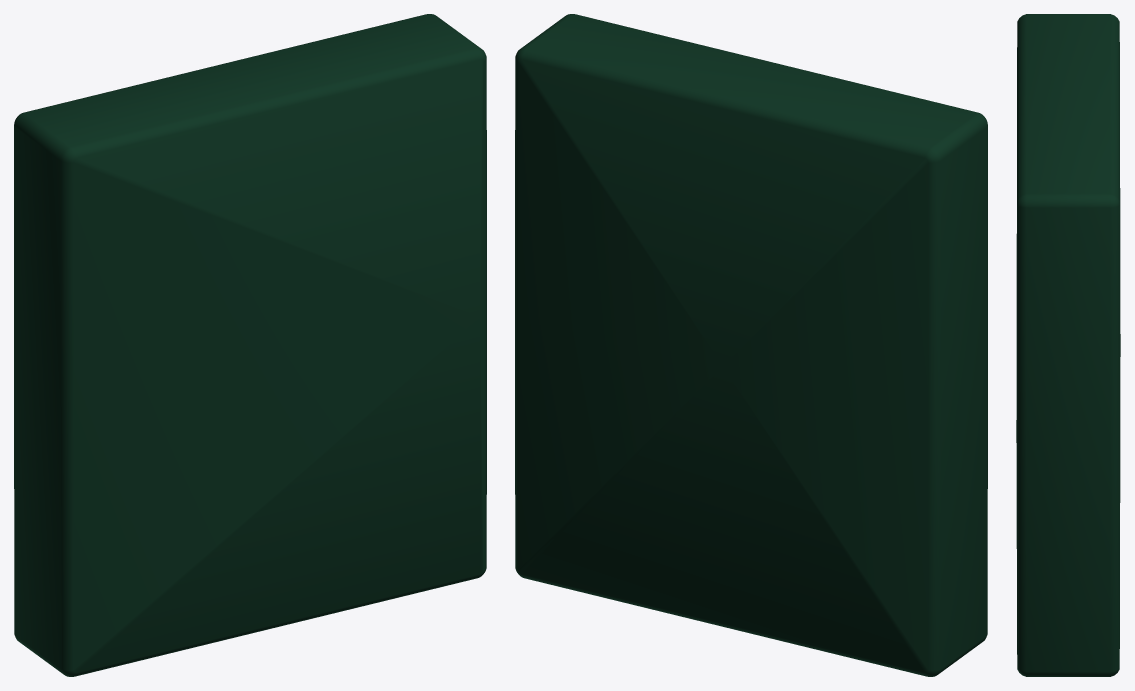
File: base_link_pcb.obj
3 views of the same model, side by side, from view 1: azimuth 30°, elevation 25°; view 2: azimuth 150°, elevation 25°; view 3: azimuth 270°, elevation 25° (orthographic). The views are drawn at different scales.
Bounding box in the file's own units: 0.0729 × 0.0869 × 0.017.
